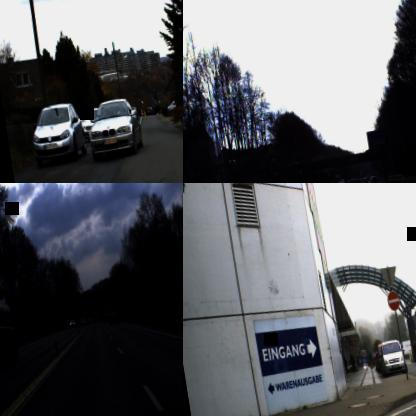NO ENTRY: (386, 289, 400, 311)
no overtaking -trucks-: (174, 281, 183, 300)
speed limit 100: (264, 151, 286, 181)
speed limit 70: (171, 263, 183, 283)
